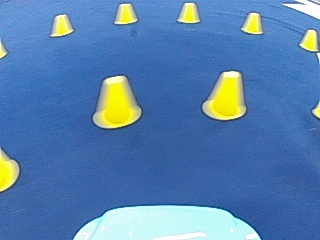cone: (93, 74, 141, 128), (203, 71, 246, 120), (1, 151, 18, 190), (50, 13, 73, 36), (240, 11, 263, 34), (113, 3, 137, 25), (176, 2, 200, 23), (299, 28, 318, 50)
